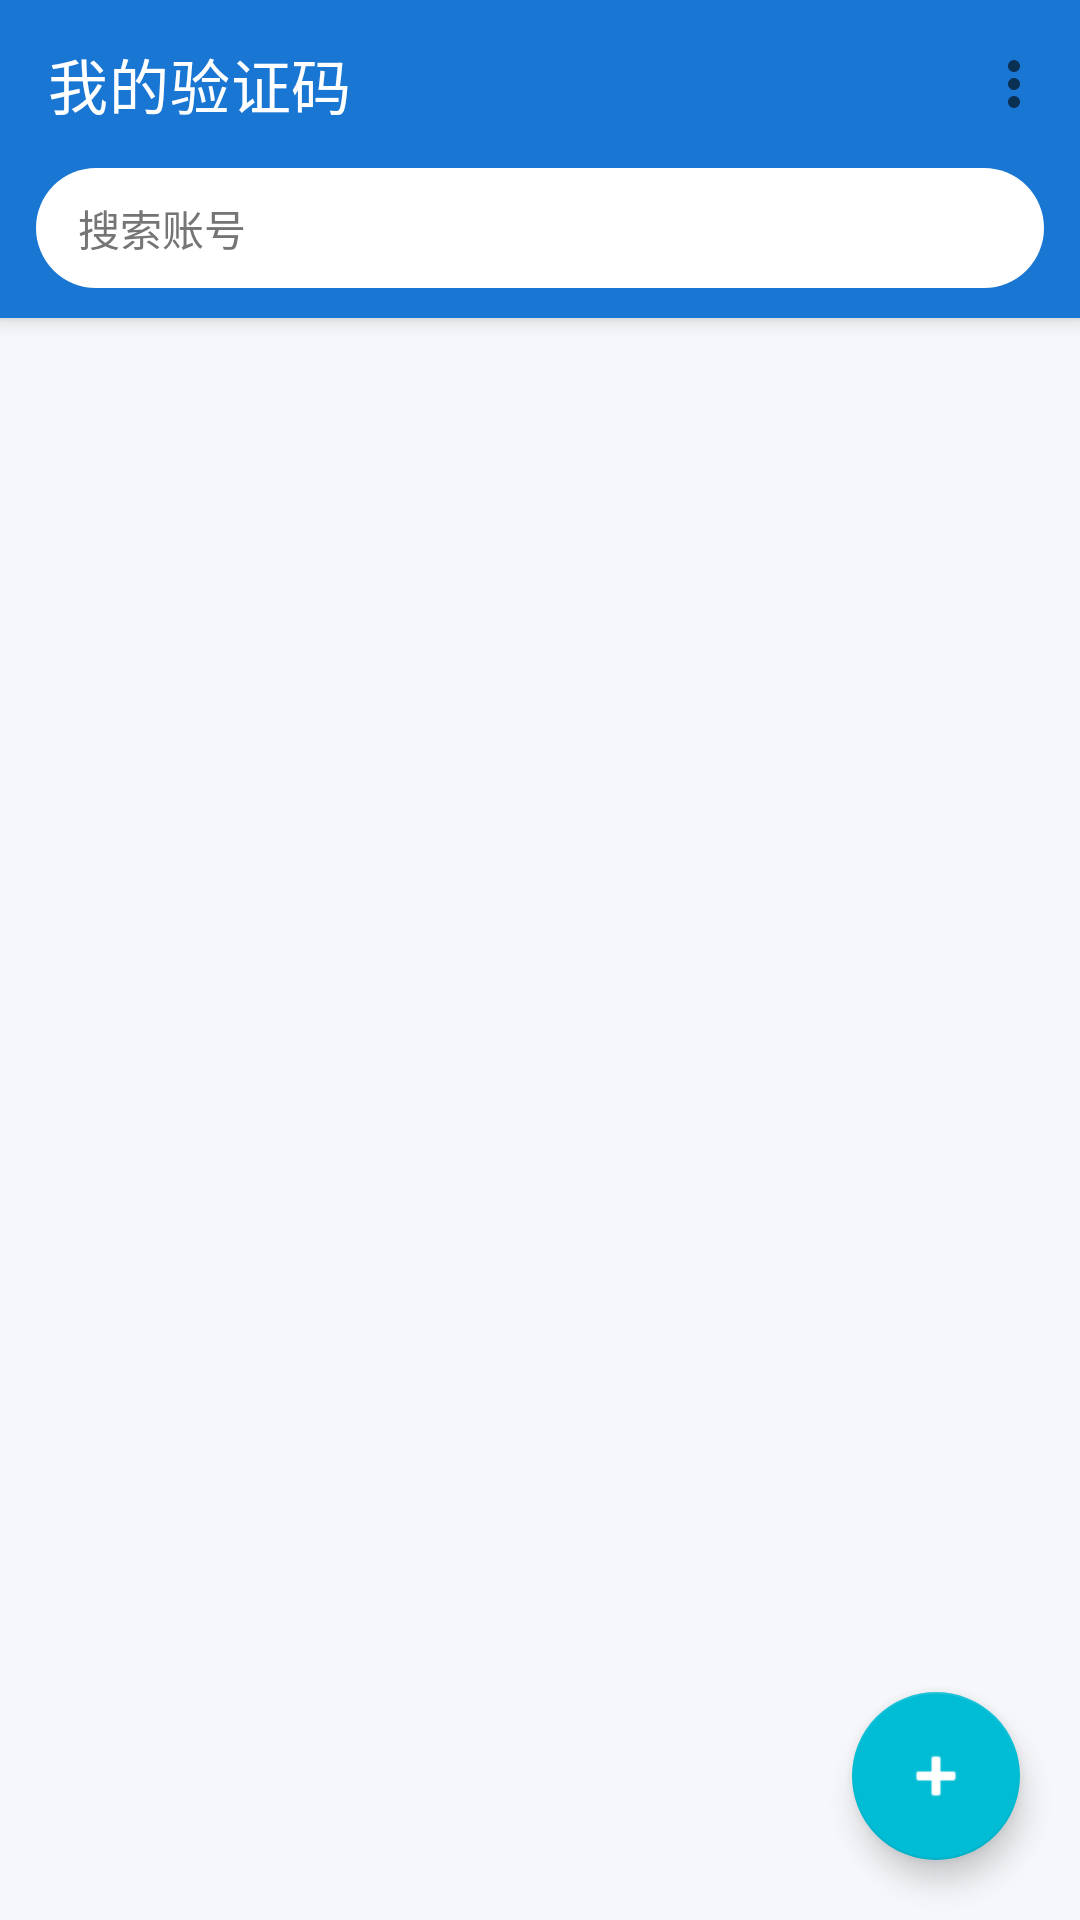

Icon click points for this 1080 × 1920 phone screenshot, format (x,y):
手动添加: (936,1776)
